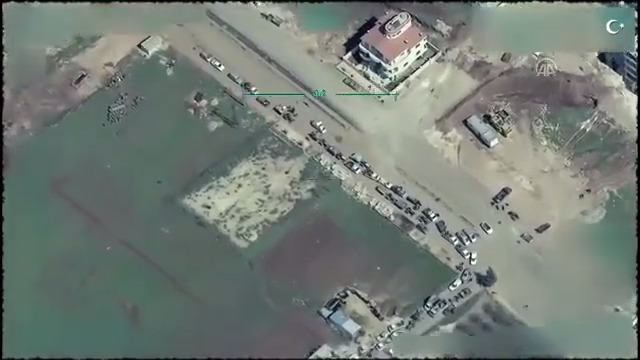arac: (308, 112, 332, 136), (343, 159, 361, 176), (211, 55, 227, 73), (448, 277, 464, 294), (466, 250, 481, 267)
bina: (343, 12, 437, 99)
